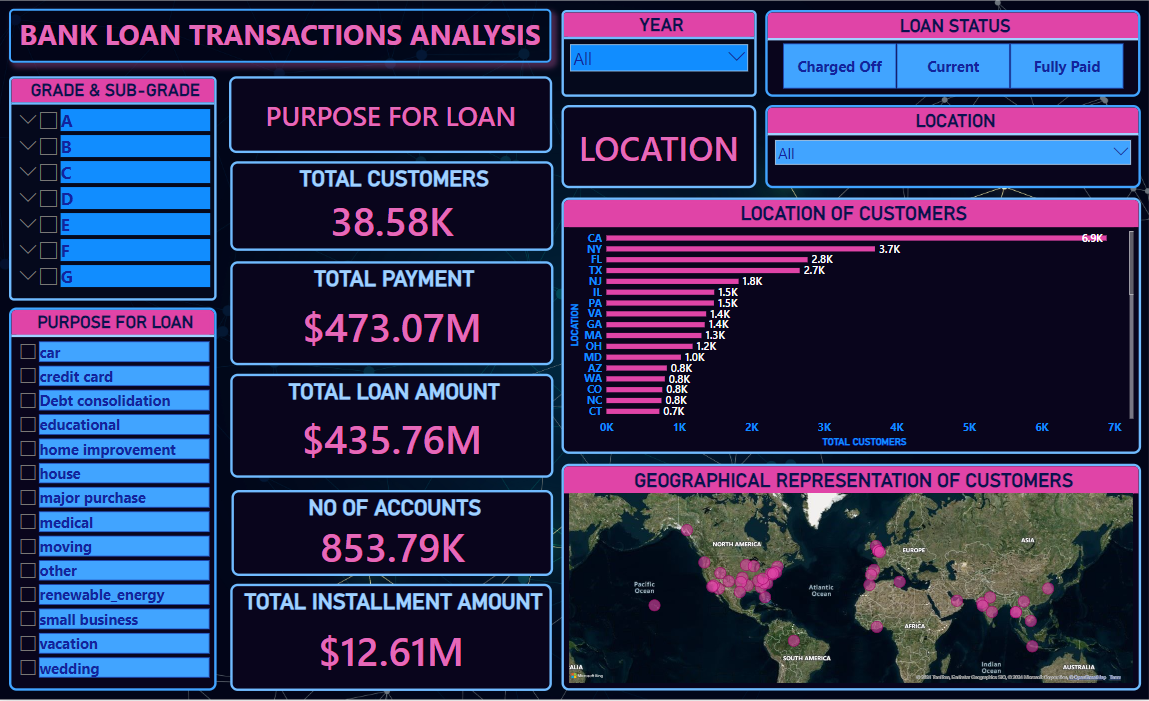

The page's visual inventory and layout, read from the dashboard file:
{"tool":"powerbi","page":{"name":"PAGE 1 ","canvas":[2300,1400],"ordinal":0},"visuals":[{"type":"textbox","box":[20.5,17.9,1084.6,107.7],"z":0},{"type":"card","title":"TOTAL CUSTOMERS","fields":{"Values":["financial_loan.No of Customers"]},"box":[461.5,323.1,646.2,179.5],"z":1000},{"type":"slicer","title":"GRADE & SUB-GRADE","fields":{"Values":["financial_loan.grade","financial_loan.sub_grade"]},"box":[20.5,151.3,415.4,448.7],"z":2000},{"type":"slicer","title":"PURPOSE FOR LOAN","fields":{"Values":["financial_loan.purpose"]},"box":[20.5,615.4,415.4,766.7],"z":3000},{"type":"card","title":"PURPOSE","fields":{"Values":["financial_loan.Purpose Measure"]},"box":[459,151.3,646.2,153.8],"z":4000},{"type":"card","title":"TOTAL LOAN AMOUNT","fields":{"Values":["Sum(financial_loan.loan_amount)"]},"box":[461.5,748.7,646.2,207.7],"z":5000},{"type":"slicer","title":"LOAN STATUS","fields":{"Values":["financial_loan.loan_status"]},"box":[1533.3,19,750,173.8],"z":6000},{"type":"slicer","title":"YEAR","fields":{"Values":["Dim Date.Date Hierarchy.YEAR","Dim Date.MONTH"]},"box":[1126.2,19,390.5,173.8],"z":7000},{"type":"barChart","title":"LOCATION OF CUSTOMERS","fields":{"Y":["financial_loan.Total Customers"],"Category":["financial_loan.address_state"]},"box":[1125.6,394.9,1159,512.8],"z":8000},{"type":"card","title":"TOTAL PAYMENT","fields":{"Values":["Sum(financial_loan.total_payment)"]},"box":[461.5,523.1,646.2,207.7],"z":9000},{"type":"card","title":"NO OF ACCOUNTS","fields":{"Values":["Sum(financial_loan.No of Accounts)"]},"box":[464.1,979.5,643.6,171.8],"z":10000},{"type":"card","title":"TOTAL INSTALLMENT AMOUNT","fields":{"Values":["Sum(financial_loan.installment)"]},"box":[461.9,1166.7,642.9,214.3],"z":11000},{"type":"map","title":"GEOGRAPHICAL REPRESENTATION OF CUSTOMERS","fields":{"Category":["financial_loan.address_state"]},"box":[1125.6,928.2,1159,453.8],"z":12000},{"type":"card","fields":{"Values":["financial_loan.COUNTRY SELECT"]},"box":[1125.6,210.3,389.7,166.7],"z":13000},{"type":"slicer","title":"LOCATION","fields":{"Values":["financial_loan.address_state"]},"box":[1533.3,210.3,751.3,166.7],"z":14000}]}

Visuals, with their boxes in screenshot pixels (x1, y1, x2, y2), scaled from the page's 2300x1400 canvas onto the 1149x701 screenshot:
textbox: left=10, top=9, right=552, bottom=63
"TOTAL CUSTOMERS" card: left=231, top=162, right=553, bottom=252
"GRADE & SUB-GRADE" slicer: left=10, top=76, right=218, bottom=300
"PURPOSE FOR LOAN" slicer: left=10, top=308, right=218, bottom=692
"PURPOSE" card: left=229, top=76, right=552, bottom=153
"TOTAL LOAN AMOUNT" card: left=231, top=375, right=553, bottom=479
"LOAN STATUS" slicer: left=766, top=10, right=1141, bottom=97
"YEAR" slicer: left=563, top=10, right=758, bottom=97
"LOCATION OF CUSTOMERS" barChart: left=562, top=198, right=1141, bottom=454
"TOTAL PAYMENT" card: left=231, top=262, right=553, bottom=366
"NO OF ACCOUNTS" card: left=232, top=490, right=553, bottom=576
"TOTAL INSTALLMENT AMOUNT" card: left=231, top=584, right=552, bottom=691
"GEOGRAPHICAL REPRESENTATION OF CUSTOMERS" map: left=562, top=465, right=1141, bottom=692
card - financial_loan.COUNTRY SELECT: left=562, top=105, right=757, bottom=189
"LOCATION" slicer: left=766, top=105, right=1141, bottom=189
